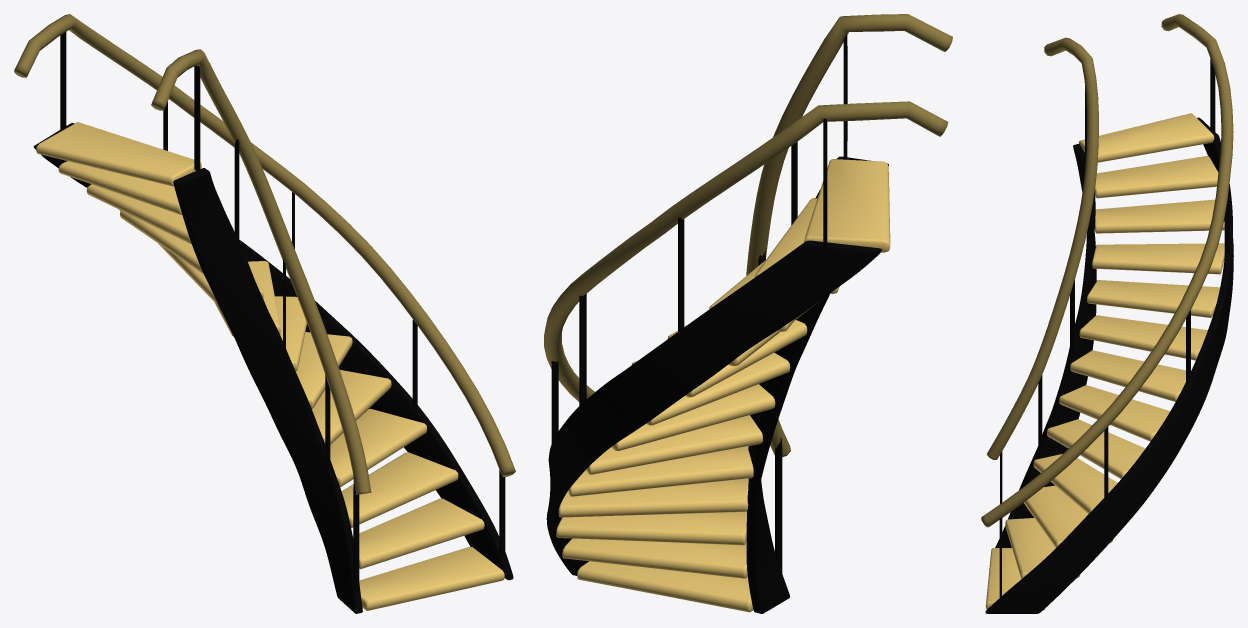
The model's file is stairs.fbx.
3 renders of one model, left to right at view 1: azimuth 30°, elevation 25°; view 2: azimuth 150°, elevation 25°; view 3: azimuth 270°, elevation 25°, orthographic. The views are drawn at different scales.
Parts seen in each view (by area): view 1: Circle, Plane.006, Plane.002, Plane.001, Plane.003, Cube.001, Cube; view 2: Circle, Plane.003, Plane.002, Plane.001, Plane.006, Cube, Cube.001; view 3: Circle, Plane.003, Plane.002, Plane.001, Plane.006, Cube, Cube.001.
Boxes of the visible parts, bbox=[...] form: Circle: bbox=[36, 122, 504, 610]; Plane.006: bbox=[173, 168, 362, 613]; Plane.002: bbox=[14, 14, 515, 477]; Plane.001: bbox=[151, 49, 371, 494]; Plane.003: bbox=[33, 123, 513, 580]; Cube.001: bbox=[194, 65, 359, 591]; Cube: bbox=[60, 32, 505, 556]; Circle: bbox=[556, 159, 890, 612]; Plane.003: bbox=[546, 240, 881, 575]; Plane.002: bbox=[544, 101, 948, 401]; Plane.001: bbox=[746, 14, 952, 456]; Plane.006: bbox=[746, 156, 888, 613]; Cube: bbox=[551, 118, 827, 443]; Cube.001: bbox=[758, 34, 847, 572]; Circle: bbox=[985, 113, 1224, 609]; Plane.003: bbox=[985, 117, 1233, 613]; Plane.002: bbox=[981, 14, 1233, 527]; Plane.001: bbox=[987, 37, 1098, 459]; Plane.006: bbox=[995, 143, 1096, 547]; Cube: bbox=[999, 59, 1229, 599]; Cube.001: bbox=[1000, 86, 1091, 534].
Size of the model in its own units: 296 by 398 by 199.
